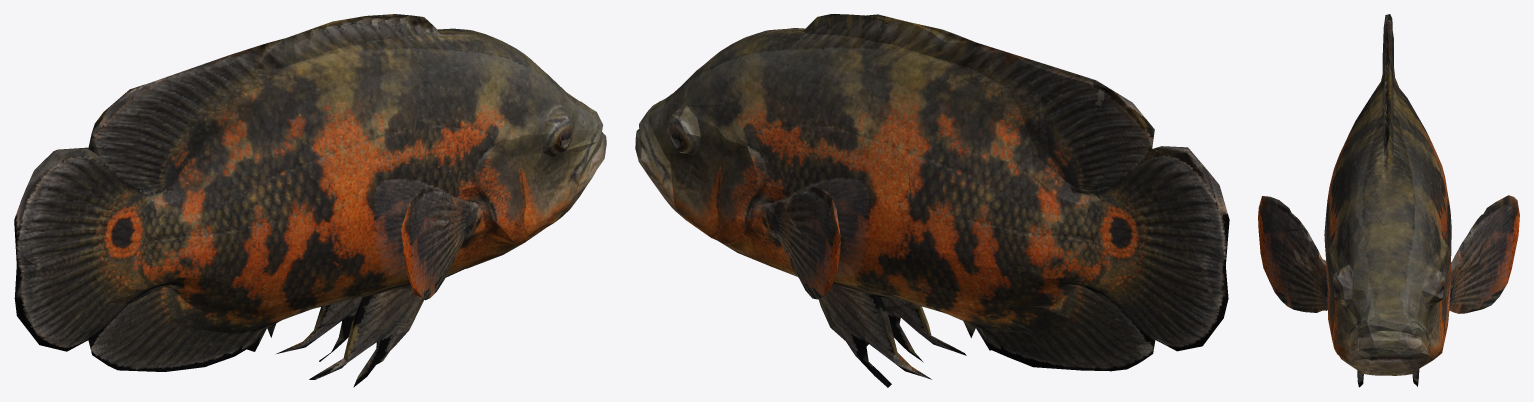
The model's file is oscar-hy2mv-3000.glb.
3 views of the same model, side by side, from view 1: azimuth 30°, elevation 25°; view 2: azimuth 150°, elevation 25°; view 3: azimuth 270°, elevation 25° (orthographic). The views are drawn at different scales.
Visible parts, largest first — view 1: geometry_0; view 2: geometry_0; view 3: geometry_0.
Part boxes in pixels (box(x1,y1,x2,y2)): geometry_0: box(14, 14, 606, 387); geometry_0: box(635, 14, 1229, 387); geometry_0: box(1258, 14, 1519, 387).
Size of the model in its own units: 1 by 0.578 by 0.4523.
Materials: 1 (1 with a texture image).
